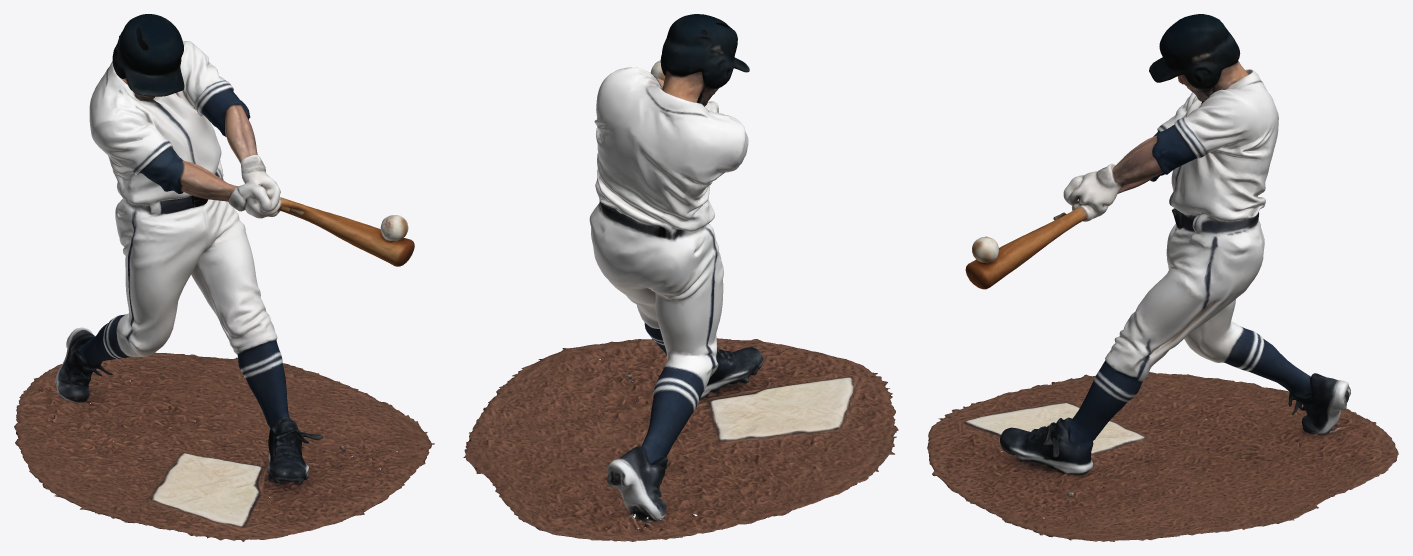
The model's file is baseball-projection.glb.
3 views of the same model, side by side, from view 1: azimuth 30°, elevation 25°; view 2: azimuth 150°, elevation 25°; view 3: azimuth 270°, elevation 25° (orthographic). The views are drawn at different scales.
Parts seen in each view (by area): view 1: baseball-original-conservative-projection; view 2: baseball-original-conservative-projection; view 3: baseball-original-conservative-projection.
Boxes of the visible parts, x1,y1,x2,y2 form: baseball-original-conservative-projection: (14, 14, 434, 541); baseball-original-conservative-projection: (463, 14, 898, 541); baseball-original-conservative-projection: (927, 14, 1398, 541).
Size of the model in its own units: 0.8537 by 0.9871 by 0.9993.
1 material, 1 textured.
